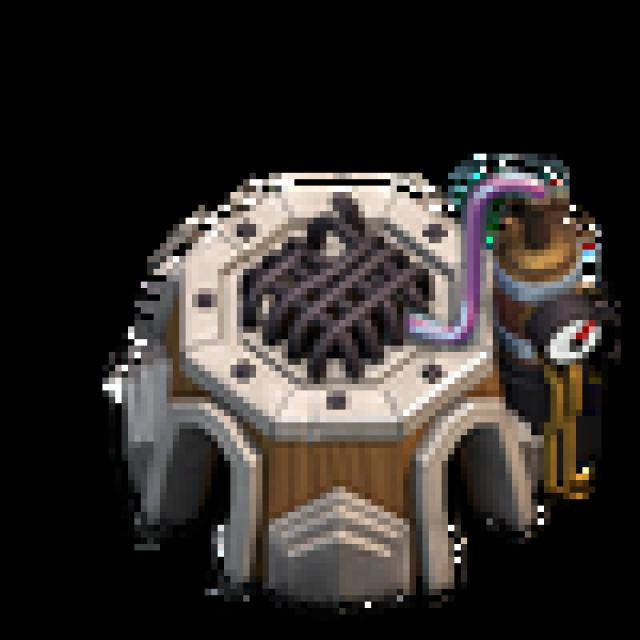laboratory: (98, 149, 620, 618)
